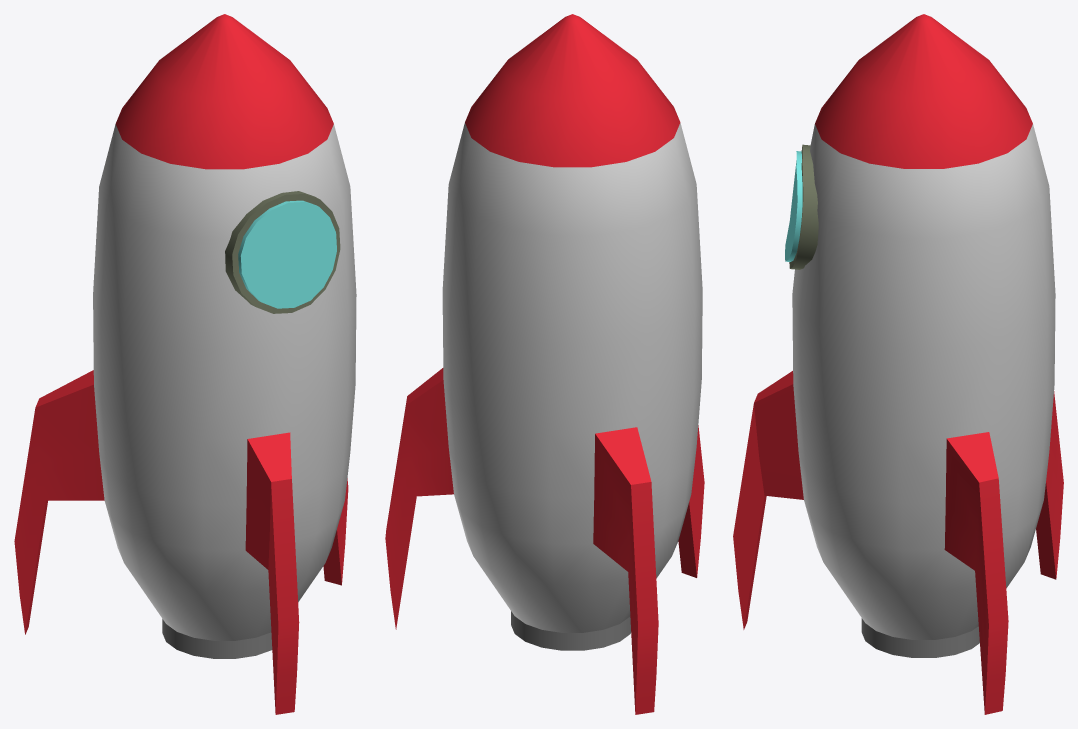
Rendered from Rocket.glb.
3 renders of one model, left to right at view 1: azimuth 30°, elevation 25°; view 2: azimuth 150°, elevation 25°; view 3: azimuth 270°, elevation 25°, orthographic.
Visible parts, largest first — view 1: Cylinder.001; view 2: Cylinder.001; view 3: Cylinder.001.
Boxes of the visible parts, box(x1,y1,x2,y2) form: Cylinder.001: box(14, 14, 356, 714); Cylinder.001: box(385, 14, 704, 714); Cylinder.001: box(733, 14, 1063, 714).
Bounding box in the file's own units: 0.8128 × 1.6 × 0.7648.
